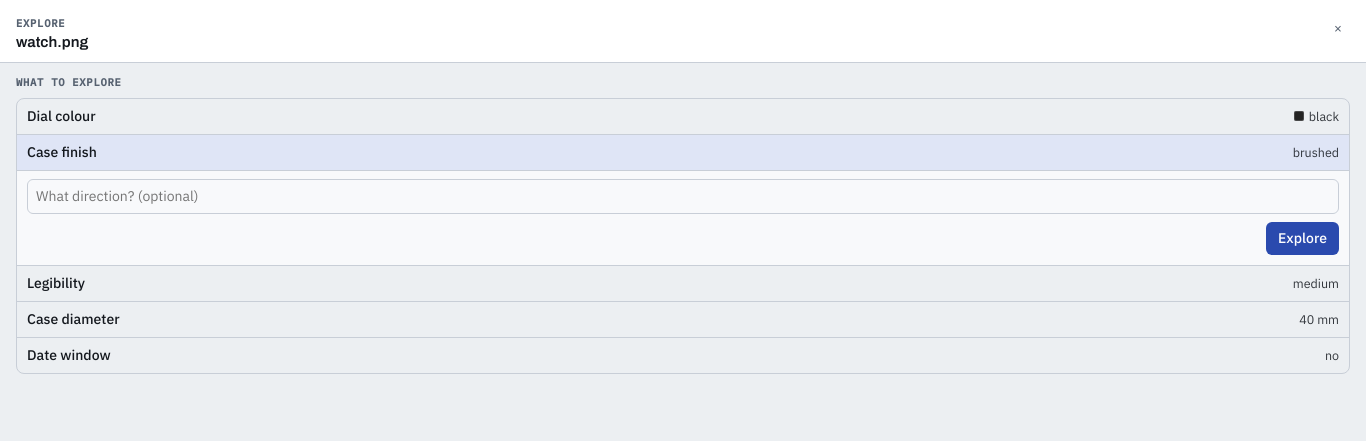
Scenario: ExplorePanel › error message shown on 502
The width and height of the screenshot is (1366, 441).
Click the button "Explore": (1303, 238) [1266,222,1339,255]
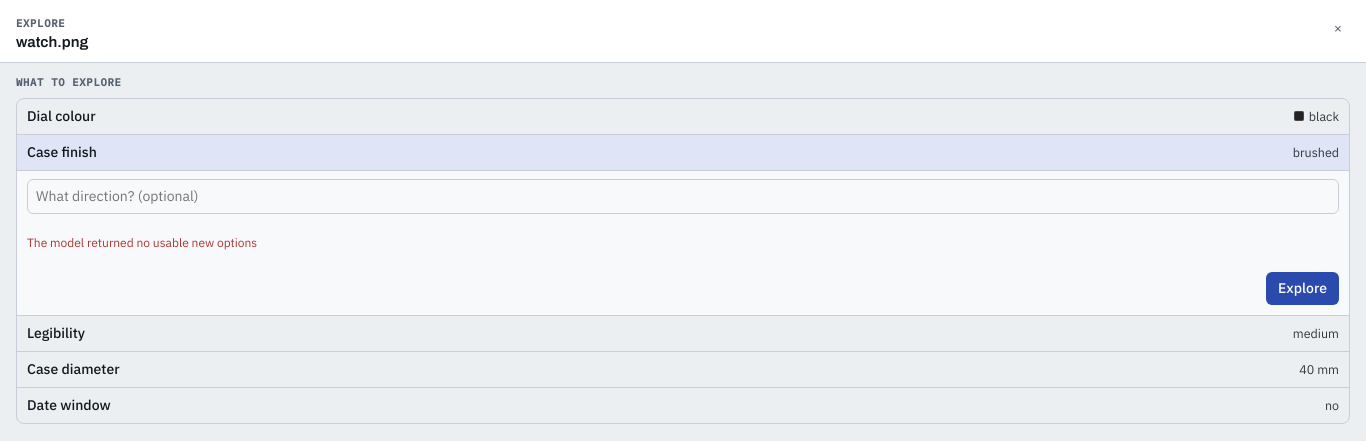
Check: the message reads "The model returned no usable new options", box [27,235,257,250]
